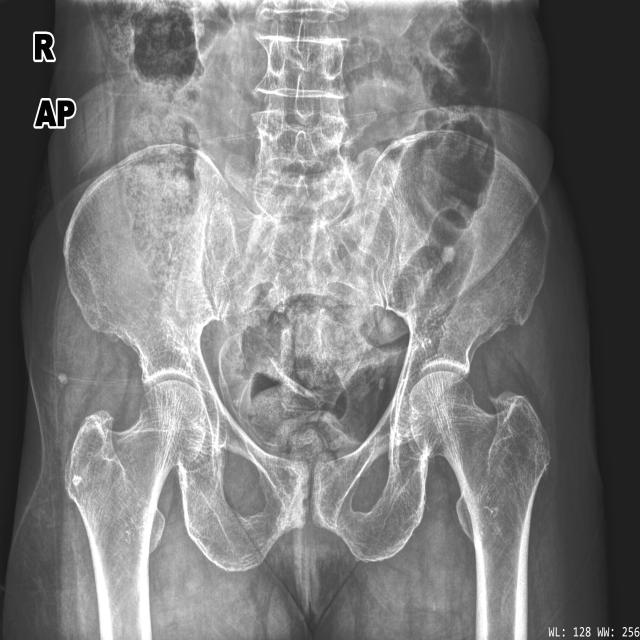normal-left: (410, 371, 551, 640)
normal-right: (65, 380, 206, 639)
